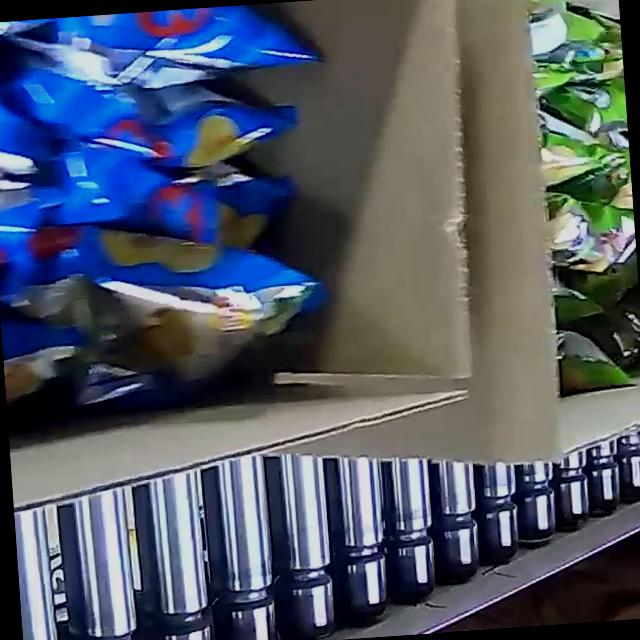paprika: (0, 0, 344, 428)
yogurt: (524, 0, 640, 393)
